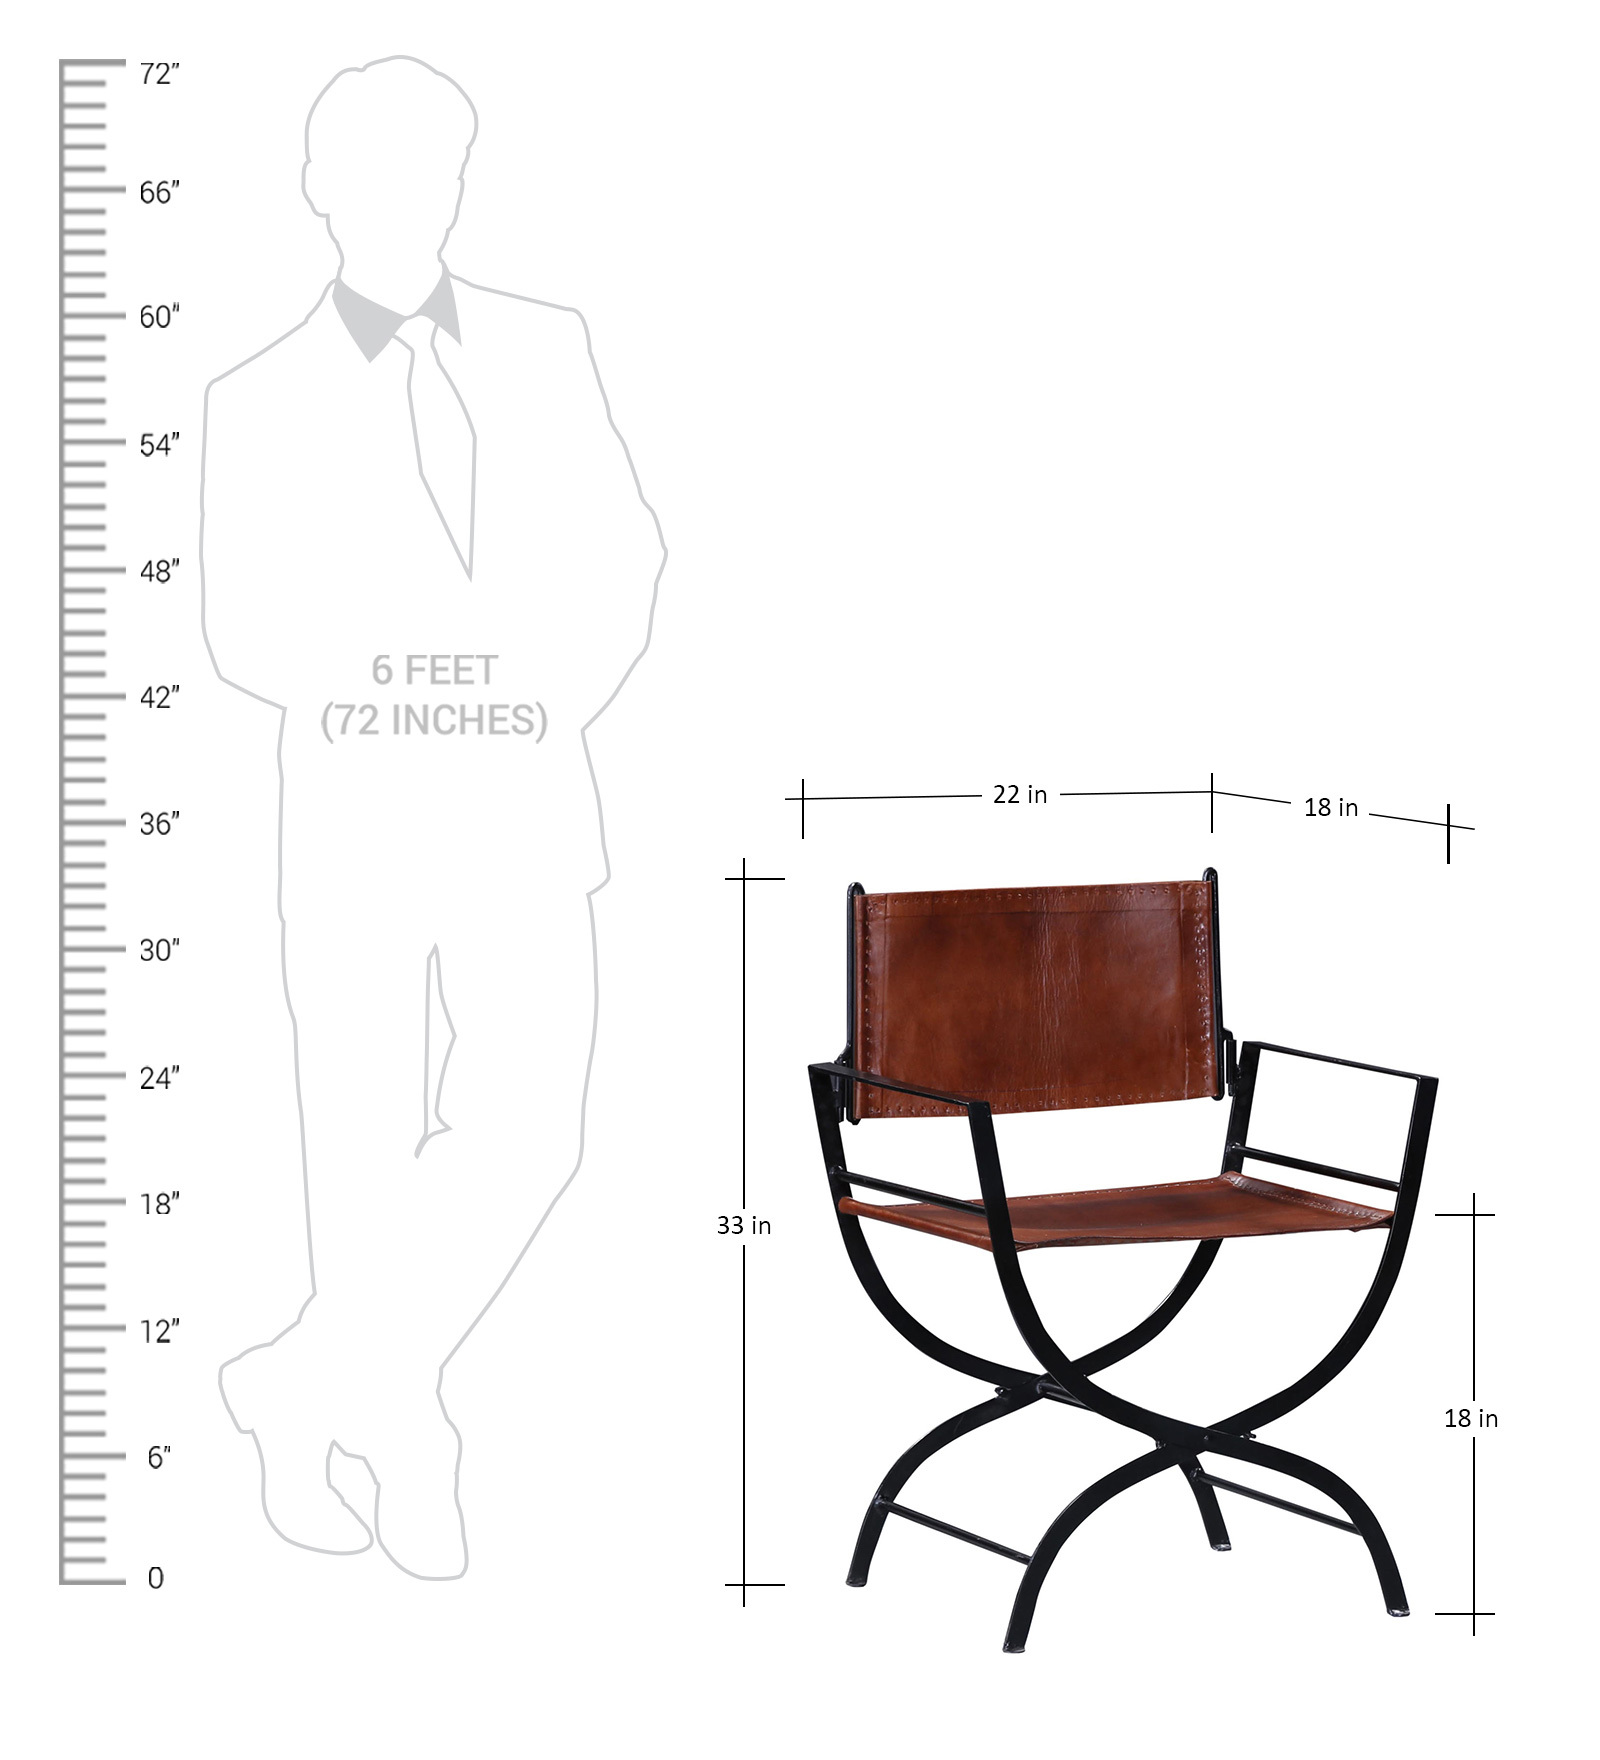Medina Metal & Leather Chair by Bohemiana: (806, 878, 1442, 1666)
